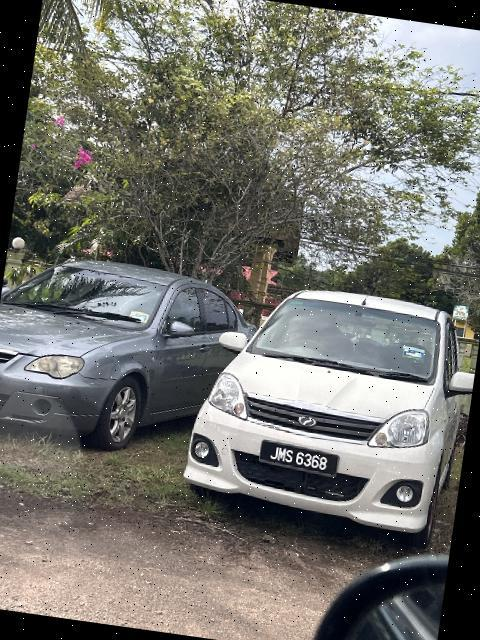JMS6368: (259, 439, 343, 480)
License_Plate: (259, 439, 343, 480)
car: (178, 270, 480, 546), (1, 239, 258, 467)
